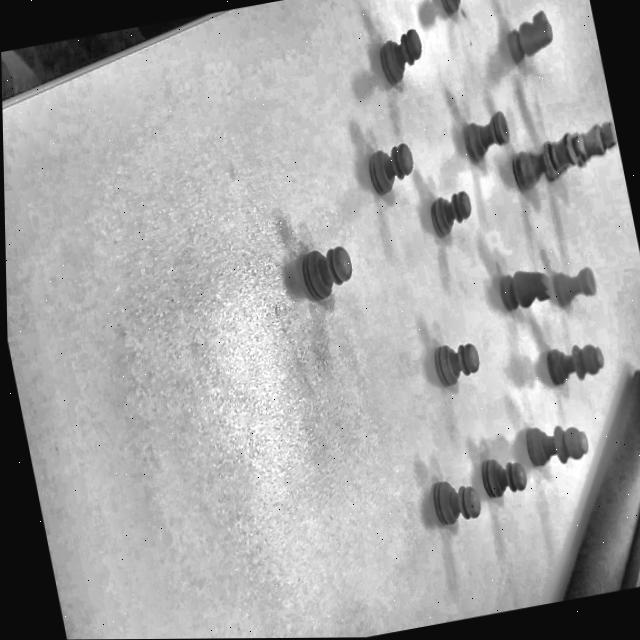white-bishop: (532, 335, 613, 402), (520, 416, 594, 477)
white-king: (534, 108, 626, 199)
white-knight: (497, 4, 559, 81), (490, 261, 556, 327)
white-pawn: (281, 234, 367, 330), (416, 465, 491, 559), (416, 329, 487, 407), (366, 15, 432, 98), (418, 175, 481, 253), (354, 135, 422, 206), (472, 445, 531, 505), (431, 0, 484, 27)
white-queen: (506, 119, 592, 206)
white-rook: (452, 104, 516, 172), (547, 258, 605, 320)
